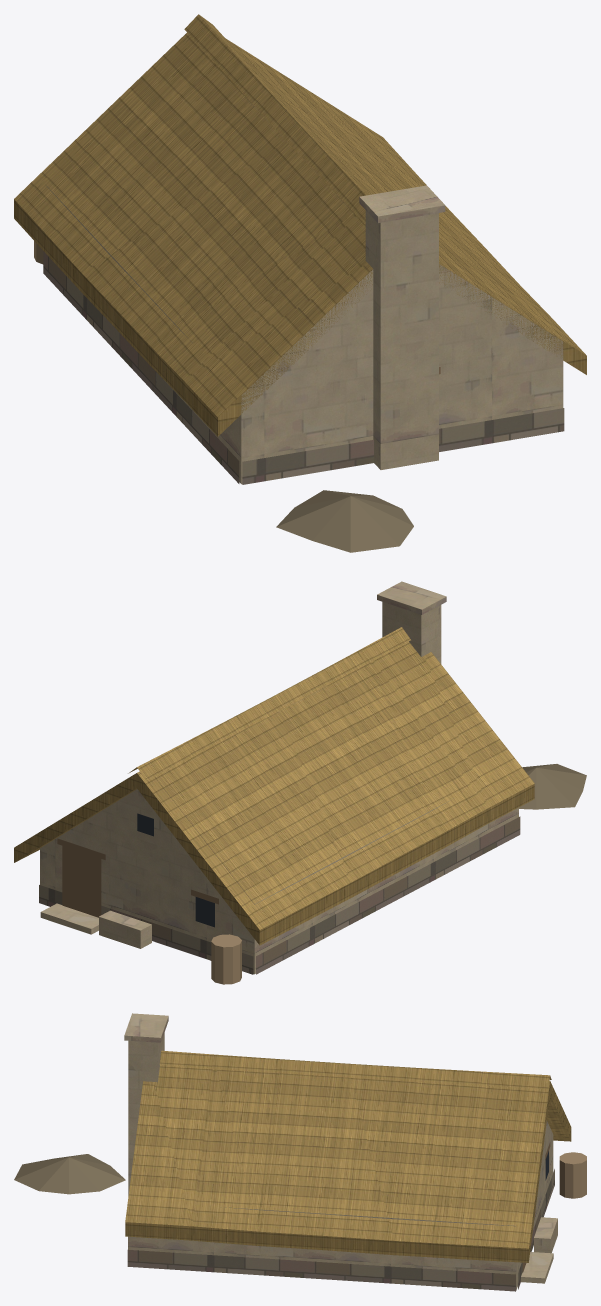
The picture shows the model from 3 angles, top to bottom: view 1: azimuth 30°, elevation 25°; view 2: azimuth 150°, elevation 25°; view 3: azimuth 270°, elevation 25°; orthographic projection. The views are drawn at different scales.
Parts seen in each view (by area): view 1: b001078_thatch, b001078_wall, b001078_base, b001078_dung; view 2: b001078_thatch, b001078_wall, b001078_base, b001078_oak, b001078_dung, b001078_wood, b001078_glass; view 3: b001078_thatch, b001078_wall, b001078_base, b001078_dung, b001078_wood.
Boxes of the visible parts, x1,y1,x2,y2 form: b001078_thatch: (14, 14, 586, 436); b001078_wall: (46, 185, 563, 484); b001078_base: (43, 251, 564, 484); b001078_dung: (276, 490, 413, 552); b001078_thatch: (14, 627, 534, 945); b001078_wall: (40, 581, 518, 974); b001078_base: (39, 816, 520, 974); b001078_oak: (57, 838, 218, 917); b001078_dung: (519, 764, 586, 809); b001078_wood: (211, 934, 241, 984); b001078_glass: (137, 813, 214, 927); b001078_thatch: (125, 1050, 571, 1262); b001078_wall: (124, 1013, 557, 1290); b001078_base: (127, 1169, 554, 1291); b001078_dung: (14, 1154, 125, 1194); b001078_wood: (559, 1152, 586, 1198).
Size of the model in its own units: 7.77 by 4.62 by 12.79.
7 materials, 3 textured.
